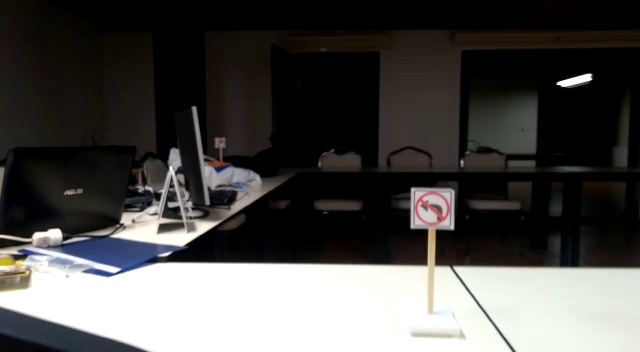sola_donulmez: (413, 191, 452, 225)
